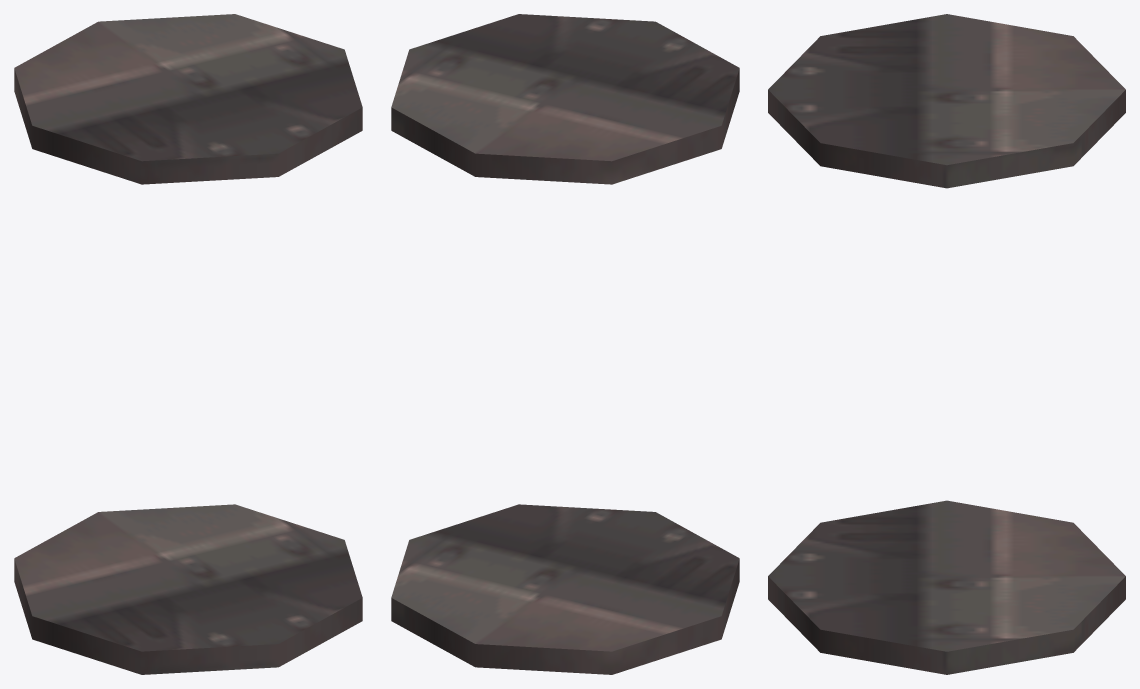
The model's file is part_model_wheel.glb.
3 renders of one model, left to right at view 1: azimuth 30°, elevation 25°; view 2: azimuth 150°, elevation 25°; view 3: azimuth 270°, elevation 25°, orthographic.
Parts seen in each view (by area): view 1: factory.part_model_wheel-MeshNodes["part_wheel"]; view 2: factory.part_model_wheel-MeshNodes["part_wheel"]; view 3: factory.part_model_wheel-MeshNodes["part_wheel"].
Part boxes in pixels (x1,y1,x2,y2): factory.part_model_wheel-MeshNodes["part_wheel"]: (14,14,362,674); factory.part_model_wheel-MeshNodes["part_wheel"]: (391,14,739,674); factory.part_model_wheel-MeshNodes["part_wheel"]: (768,14,1125,674).
Size of the model in its own units: 0.56 by 0.88 by 0.56.
Materials: 1 (1 with a texture image).
